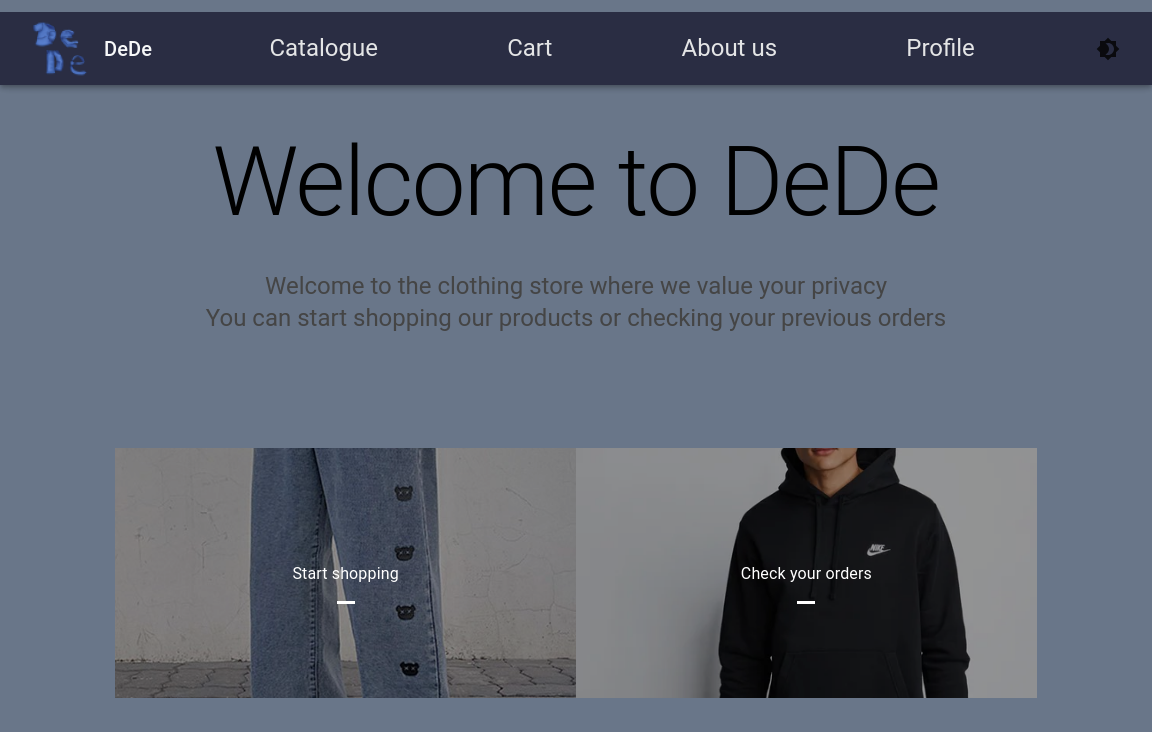
it: clicking on the magnifier icon takes you to the catalogue
Click the button with aria-label "go to shop": click(324, 48) [257, 20, 390, 76]
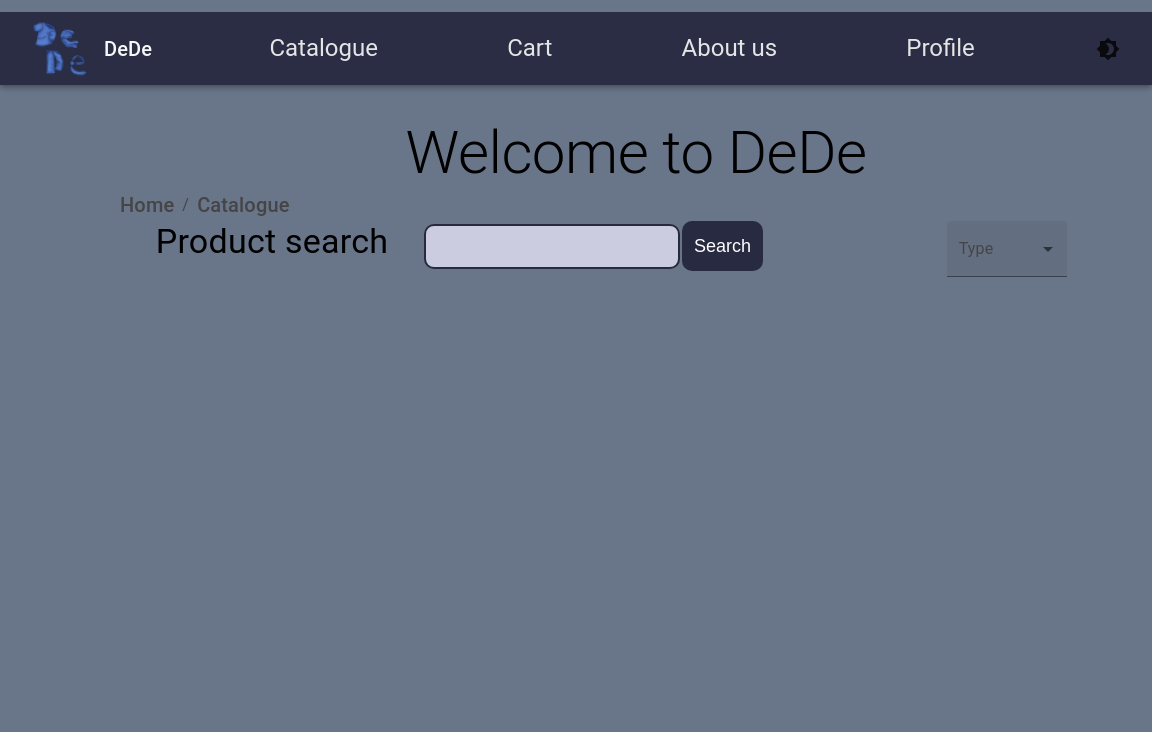
Check: the heading "Product search" is shown, box [156, 221, 388, 261]
